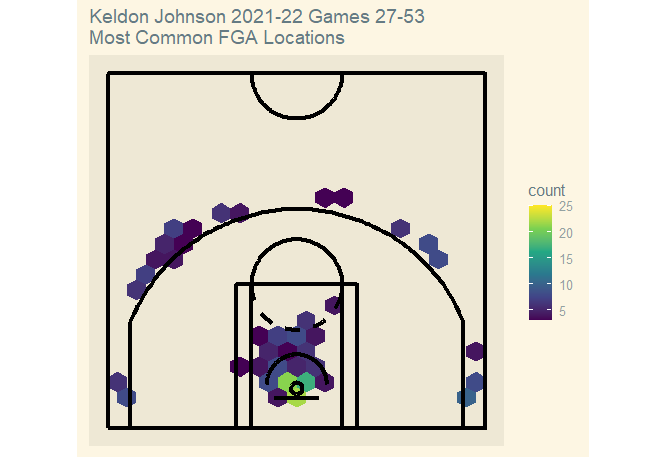

The dashboard page shown, as its layout file describes it:
{"tool":"tableau","page":{"name":"Dashboard 1","canvas":[800,800],"ordinal":0},"visuals":[{"type":"worksheet","title":"Sheet 1","mark":"Automatic","rows":["LOC_Y"],"cols":["LOC_X"],"box":[8,8,624,784]},{"type":"legend","title":"Sheet 1","param":"[federated.03dq9x01td4w500zwbh3a0a7gqdi].[none:SHOT_MADE_FLAG:ok]","box":[632,8,160,72]}]}

Visuals, with their boxes on the page's 800x800 design canvas (x1, y1, x2, y2). These are canvas units, not pixel positions in the 667x458 screenshot, which may show the page scaled, cropped or inside an application window:
"Sheet 1" worksheet: crop(8, 8, 632, 792)
"Sheet 1" legend: crop(632, 8, 792, 80)
